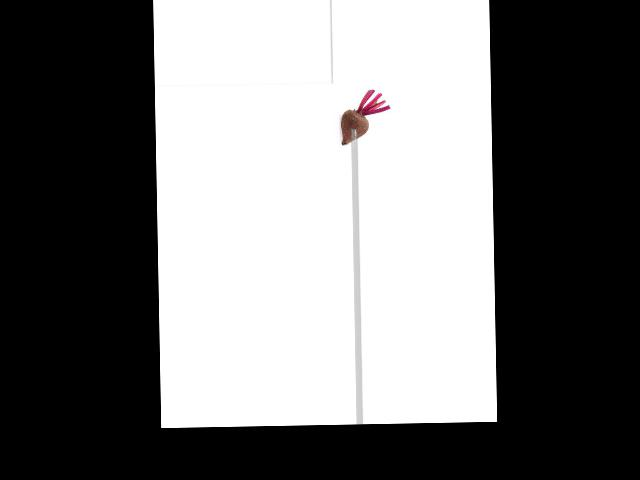beet: (340, 89, 390, 145)
